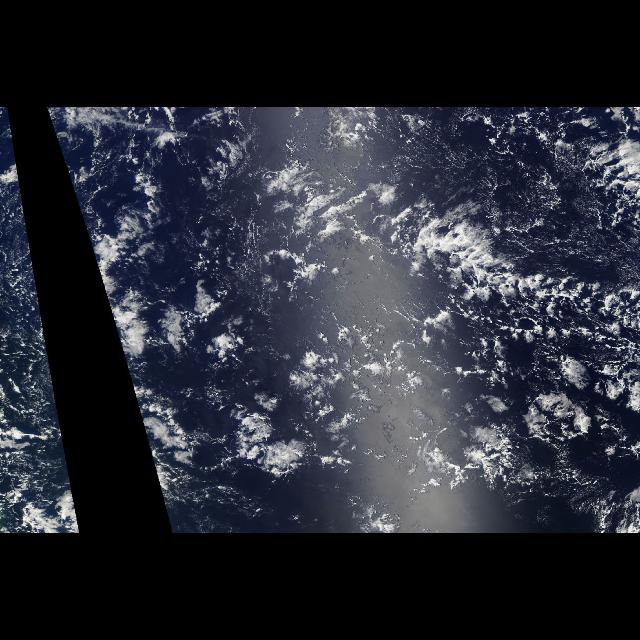Fish: (238, 152, 640, 368)
Flower: (86, 232, 640, 514), (69, 471, 77, 514)
Gravel: (1, 193, 66, 533)
